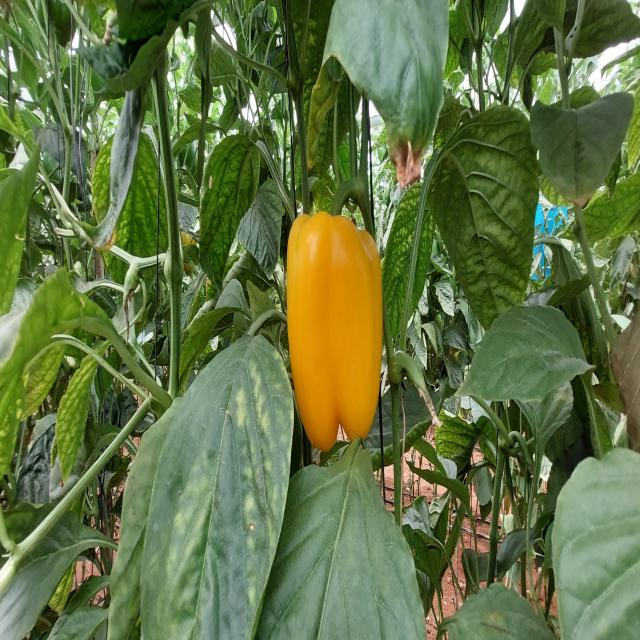Yellow-Ready-to-Harvest: (282, 190, 389, 460)
